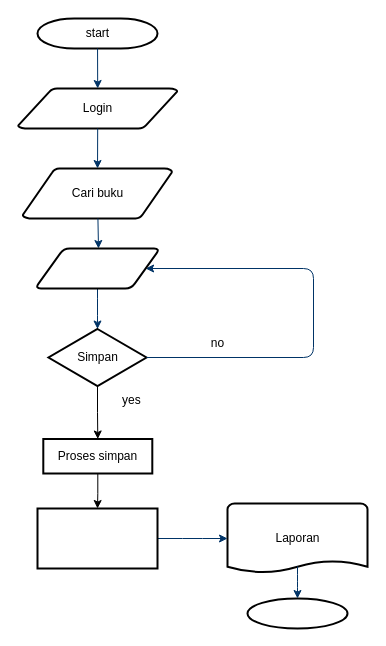
Some shapes in this 386 by 646 pixel diagram are drawn without their labels. Here are the shapes that lost their labels. From the top down, the centre of each, then its label:
At pixel 97 268: "Pinjam".
At pixel 97 538: "Proses masuk laporan".
At pixel 297 613: "End".
